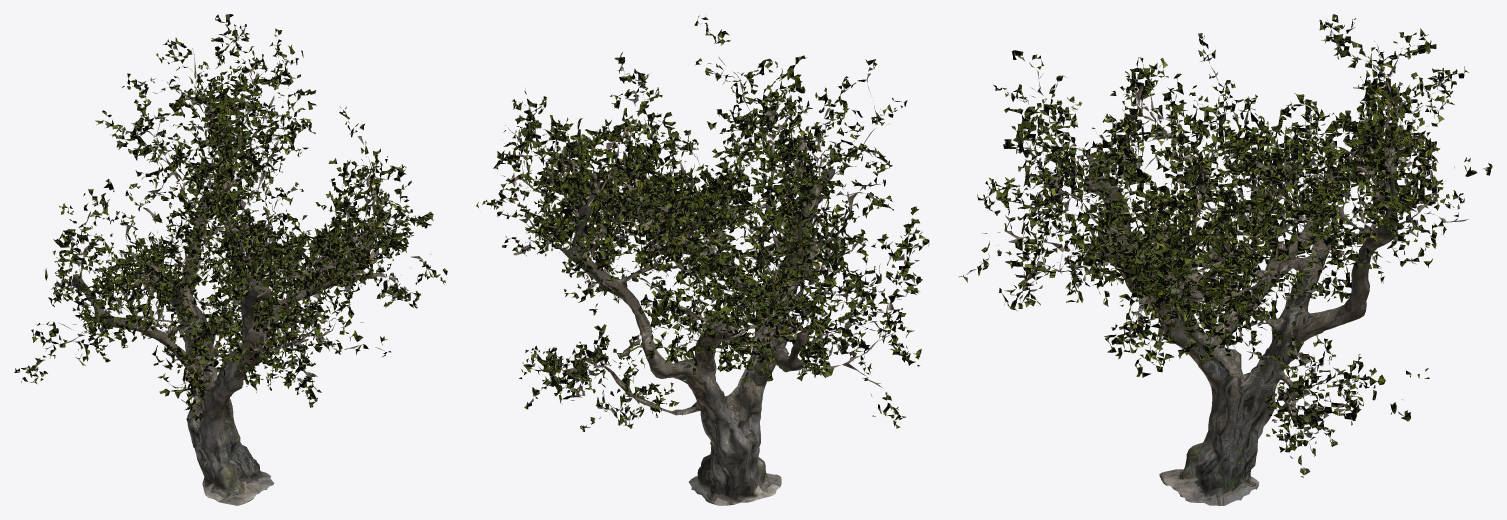
The model's file is island_tree_01_1k_dec.gltf.
3 views of the same model, side by side, from view 1: azimuth 30°, elevation 25°; view 2: azimuth 150°, elevation 25°; view 3: azimuth 270°, elevation 25° (orthographic). The views are drawn at different scales.
Parts seen in each view (by area): view 1: island_tree_01_LOD0; view 2: island_tree_01_LOD0; view 3: island_tree_01_LOD0.
Boxes of the visible parts, x1,y1,x2,y2 form: island_tree_01_LOD0: (14, 14, 447, 505); island_tree_01_LOD0: (476, 15, 929, 505); island_tree_01_LOD0: (959, 14, 1492, 505).
Bounding box in the file's own units: 4.75 × 4.97 × 4.79.
Materials: 3 (3 with a texture image).
